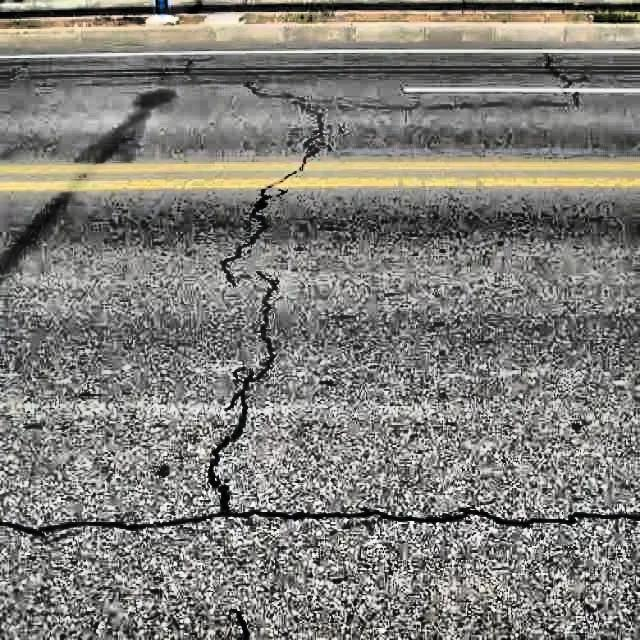buraco: (224, 66, 347, 518), (6, 516, 639, 532)
